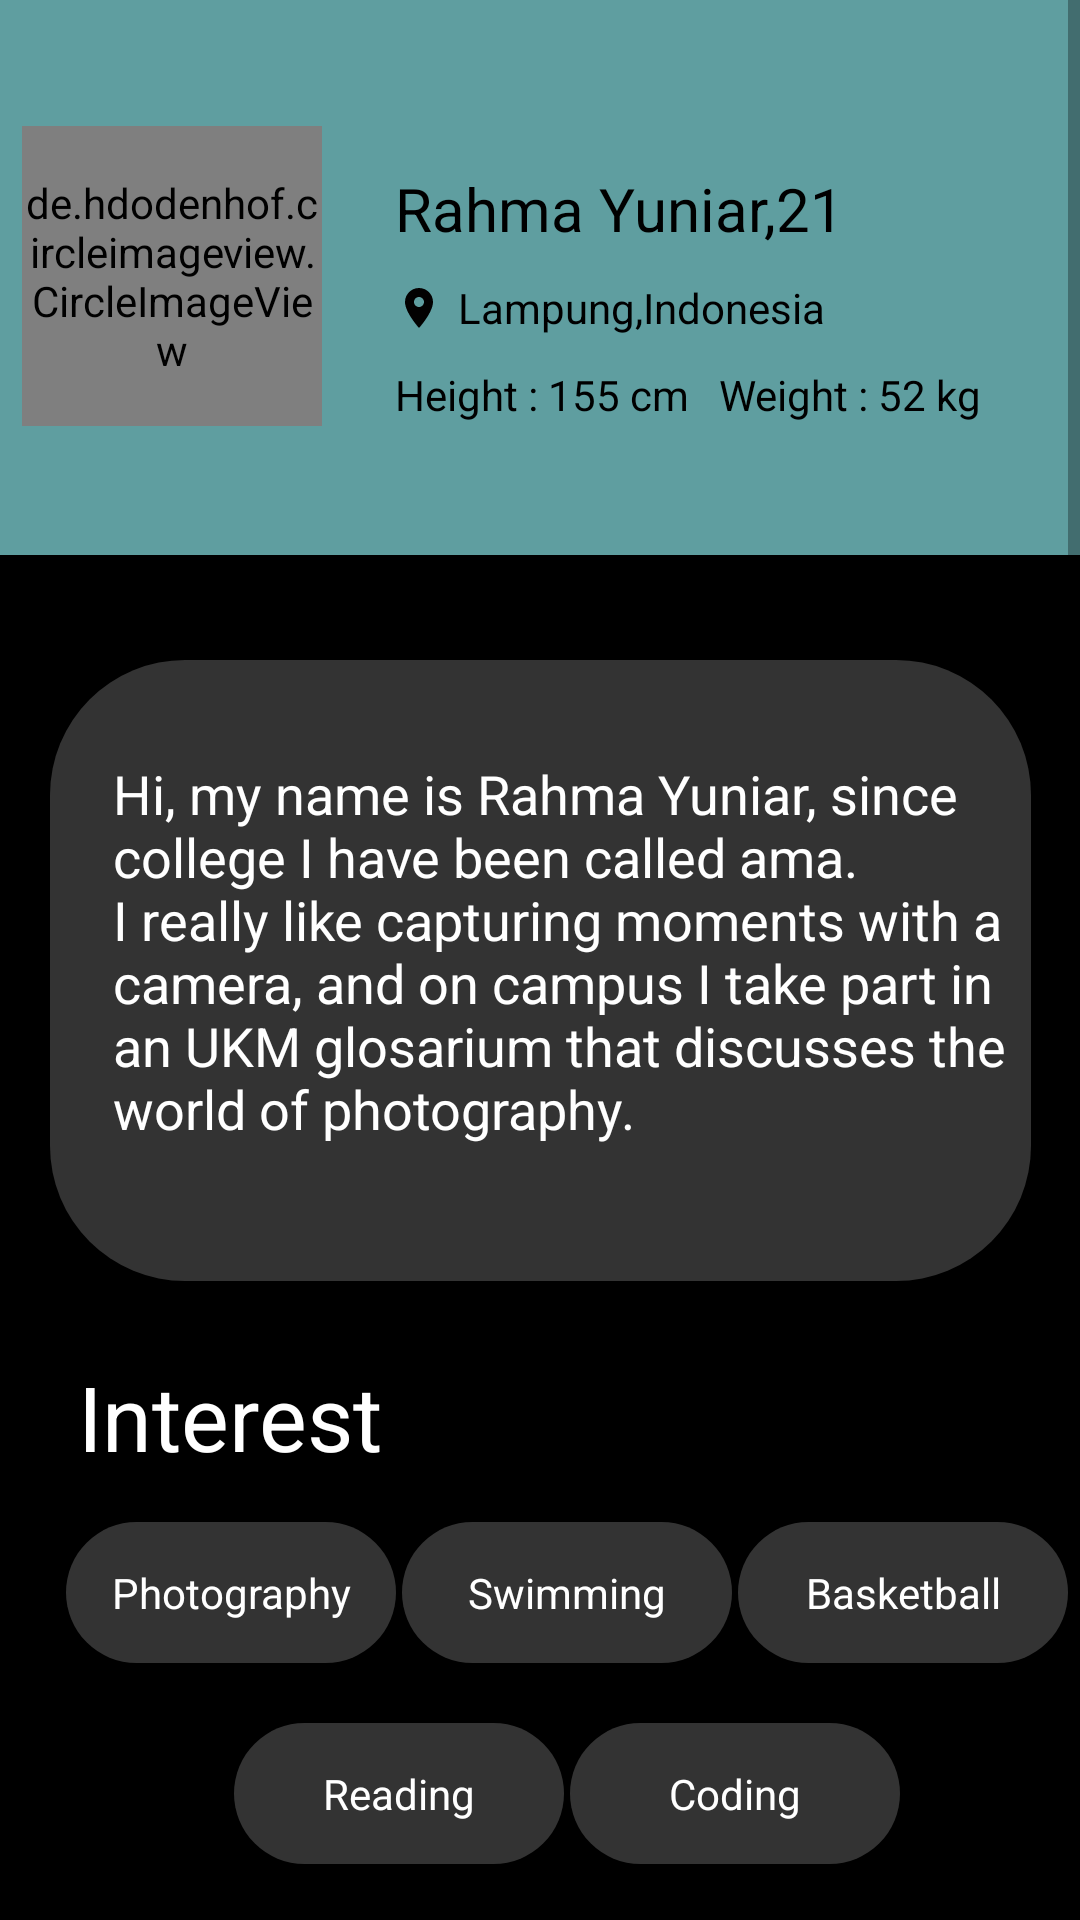

Locate icon controls on the screen. Image size 1080×1920, boxes as detection(x1, y1, x2, y2).
location on: detection(405, 288, 433, 328)
